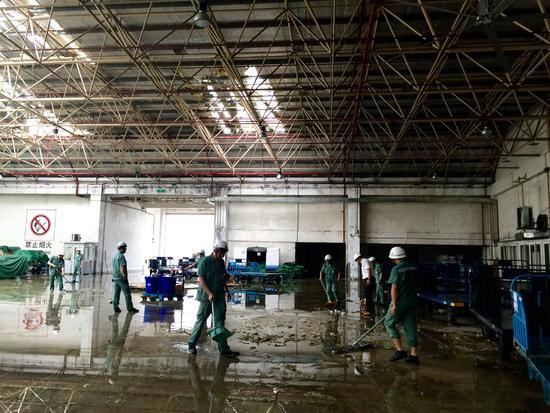helmet: (388, 247, 407, 263), (214, 241, 230, 252), (118, 241, 128, 251), (353, 253, 362, 263), (324, 255, 333, 263), (367, 257, 377, 263), (199, 249, 207, 256), (59, 251, 67, 257), (76, 248, 82, 252)
